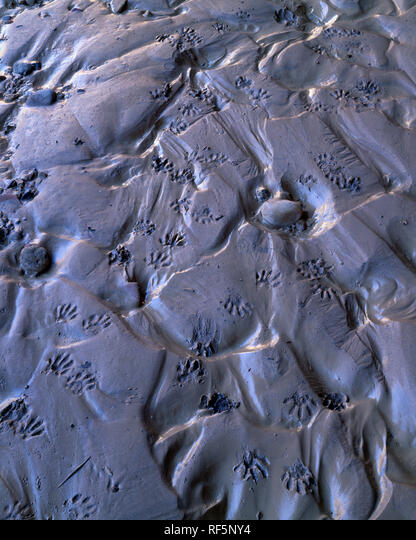raccoon: (48, 344, 99, 402), (208, 284, 256, 323), (233, 446, 280, 480), (202, 394, 241, 430), (284, 389, 315, 430)
